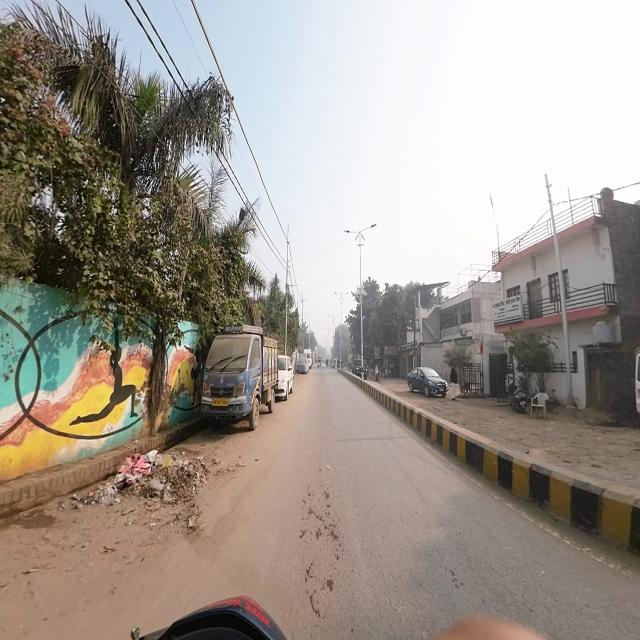Garbage: (116, 451, 214, 503), (80, 478, 116, 509)
